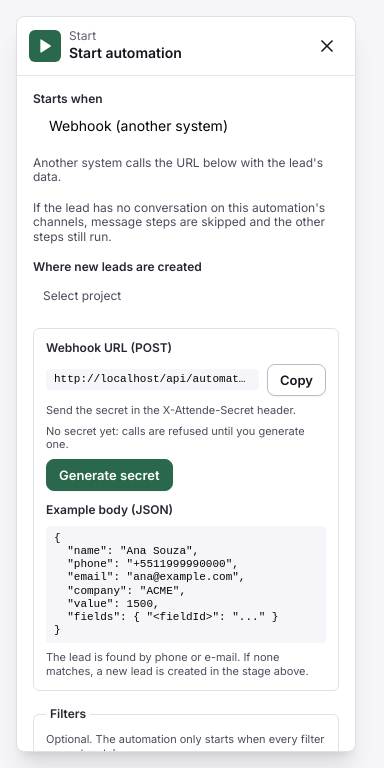
BotStartInspector › shows the webhook URL and the secret once, after generating it
Expected: the text "No secret yet: calls are refused until you generate one." is shown, [46, 425, 326, 451]
Click the button "Generate secret". click: click(109, 476)
box: [46, 460, 173, 492]
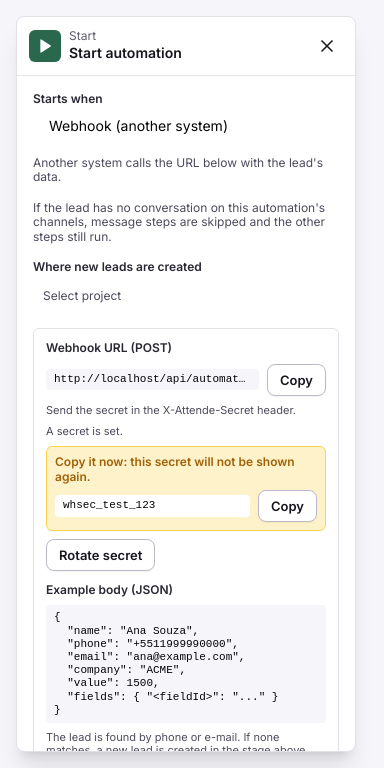
Result: the text with test id "webhook-secret" reads "whsec_test_123" at [63, 500, 155, 512]
Result: the text "Copy it now: this secret will not be shown again." is shown at [55, 455, 317, 484]
Result: the button "Rotate secret" is shown at [46, 539, 155, 571]
